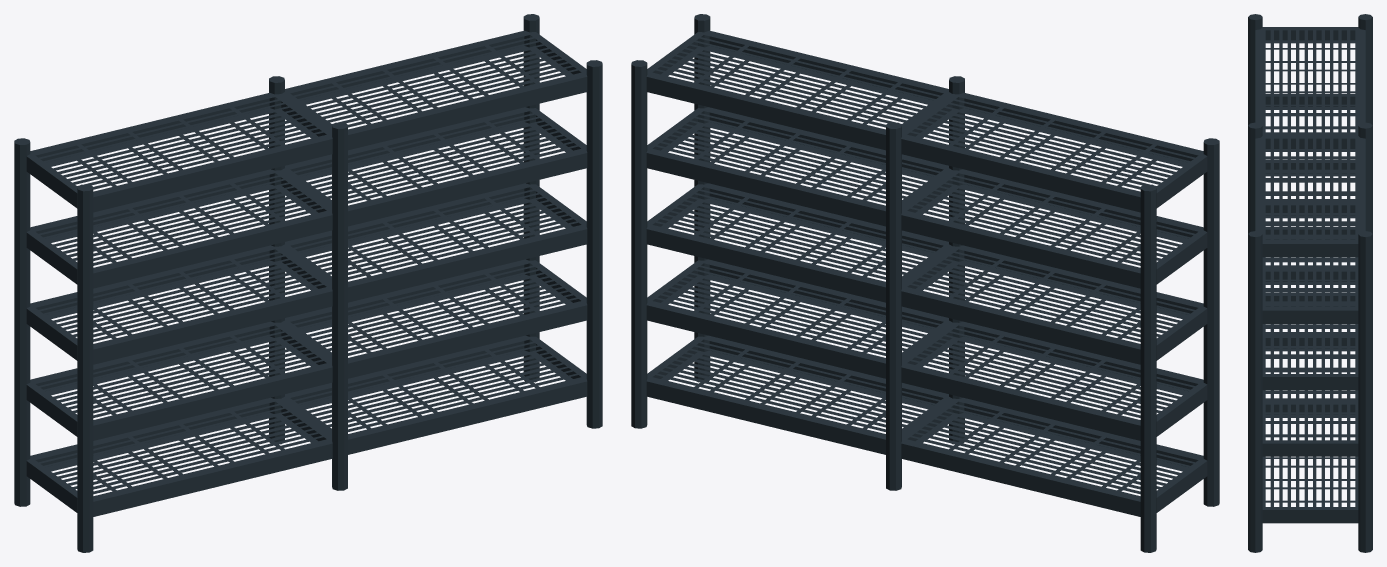
The model's file is StorageShelves.fbx_LongShelf.fbx.
The picture shows the model from 3 angles, left to right: view 1: azimuth 30°, elevation 25°; view 2: azimuth 150°, elevation 25°; view 3: azimuth 270°, elevation 25°; orthographic projection. The views are drawn at different scales.
Visible parts, largest first — view 1: Cylinder.001; view 2: Cylinder.001; view 3: Cylinder.001.
Part boxes in pixels (bbox=[...]): Cylinder.001: bbox=[14, 14, 602, 552]; Cylinder.001: bbox=[631, 14, 1219, 552]; Cylinder.001: bbox=[1248, 14, 1372, 552].
Bounding box in the file's own units: 340 × 1440 × 950.
